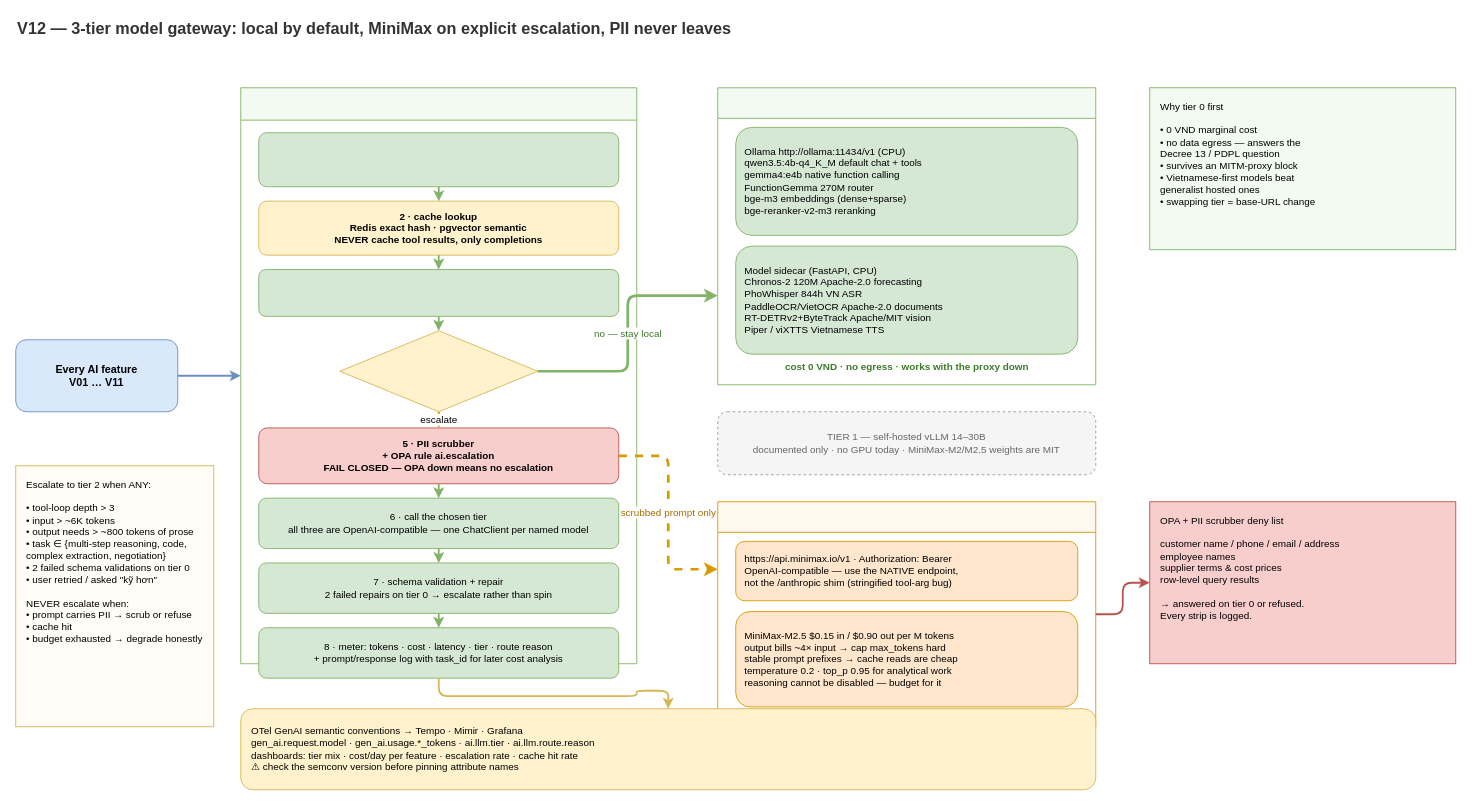
Some shapes in this 1472 by 806 pixel diagram are drawn without their labels. The box of each missing label's shape, as (x1, y1, x2, y2) in pixels:
1 · classify the task FunctionGemma 270M or heuristic this hop must be ~free: (258, 132, 619, 187)
3 · budget check Redis token bucket: tenant / feature / session / day: (258, 269, 619, 316)
4 · escalation decision: (339, 330, 538, 412)
LlmGateway (ai-service · Spring AI 2.0): (240, 87, 637, 664)
TIER 0 — LOCAL (default, ~85%+ of turns): (717, 87, 1096, 385)
TIER 2 — MiniMax API (escalation, target < 15%): (717, 501, 1096, 727)
